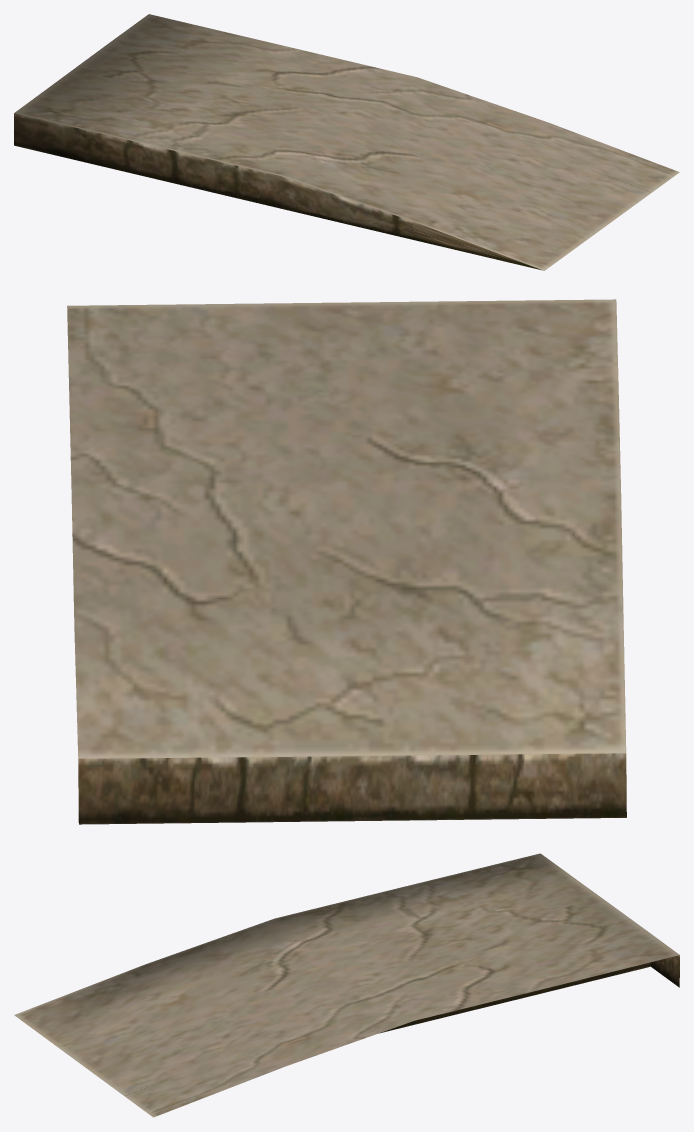
The model's file is HTOWN01_HANNA-PORCH01.fbx.
3 views of the same model, one above another, from view 1: azimuth 30°, elevation 25°; view 2: azimuth 150°, elevation 25°; view 3: azimuth 270°, elevation 25° (orthographic). The views are drawn at different scales.
Visible parts, largest first — view 1: HTOWN01_HANNA-PORCH01; view 2: HTOWN01_HANNA-PORCH01; view 3: HTOWN01_HANNA-PORCH01.
Boxes of the visible parts, <box> form: HTOWN01_HANNA-PORCH01: <box>14,14,679,270</box>; HTOWN01_HANNA-PORCH01: <box>67,299,626,824</box>; HTOWN01_HANNA-PORCH01: <box>14,853,679,1117</box>.
Size of the model in its own units: 47425 by 3413 by 57725.
2 materials, 2 textured.
